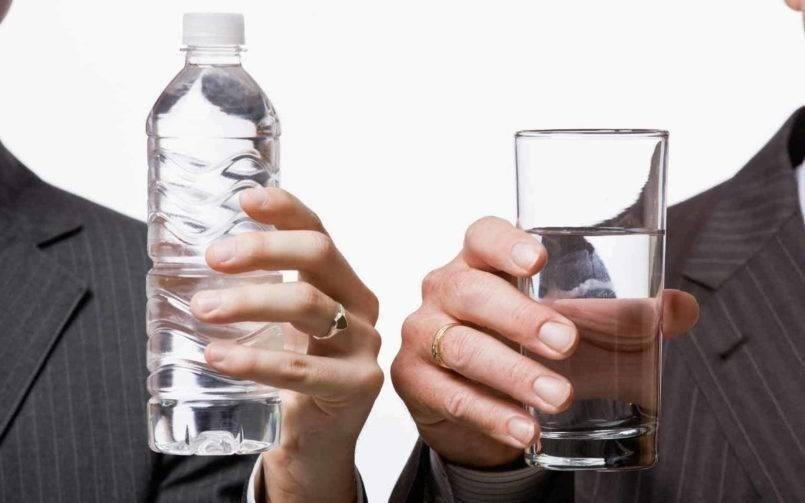bottle-plastic: (142, 2, 287, 457)
glass-normal: (511, 122, 677, 474)
